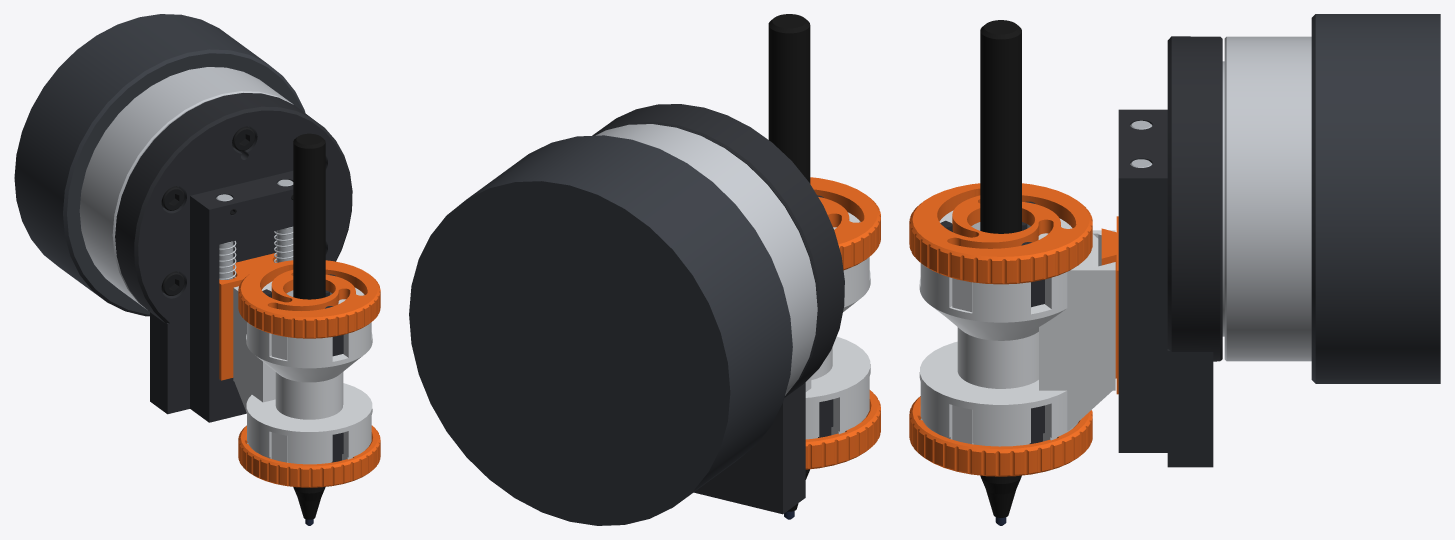
File: Quick-Change - Assembly.glb
3 renders of one model, left to right at view 1: azimuth 30°, elevation 25°; view 2: azimuth 150°, elevation 25°; view 3: azimuth 270°, elevation 25°, orthographic. The views are drawn at different scales.
Parts seen in each view (by area): view 1: Base, UTRA 6-1000 J6 housing (ref), Cartridge body, UTRA 6-1000 tool flange (ref), Twist ring (upper), Gel pen 11 mm barrel, Twist ring (lower), Carriage, Rod R, Rod L, Gel pen 11 mm front, M5x12 SHCS 6 (+2 smaller); view 2: UTRA 6-1000 J6 housing (ref), Base, UTRA 6-1000 tool flange (ref), Gel pen 11 mm barrel, Cartridge body, Twist ring (upper), Twist ring (lower); view 3: UTRA 6-1000 J6 housing (ref), Base, Cartridge body, UTRA 6-1000 tool flange (ref), Twist ring (upper), Gel pen 11 mm barrel, Twist ring (lower), Carriage, Gel pen 11 mm front.
Part boxes in pixels (x1,y1,x2,y2): Base: (115,93,352,422); UTRA 6-1000 J6 housing (ref): (14,14,305,316); Cartridge body: (233,281,372,464); UTRA 6-1000 tool flange (ref): (79,67,293,309); Twist ring (upper): (238,260,380,338); Gel pen 11 mm barrel: (293,133,325,493); Twist ring (lower): (238,425,380,487); Carriage: (219,253,276,380); Rod R: (276,179,293,262); Rod L: (216,194,233,279); Gel pen 11 mm front: (294,489,324,519); M5x12 SHCS 6: (161,186,184,210); UTRA 6-1000 J6 housing (ref): (409,135,792,525); Base: (592,104,844,514); UTRA 6-1000 tool flange (ref): (595,124,817,395); Gel pen 11 mm barrel: (768,14,810,473); Cartridge body: (805,212,870,439); Twist ring (upper): (810,177,880,270); Twist ring (lower): (805,390,880,469); UTRA 6-1000 J6 housing (ref): (1311,14,1440,383); Base: (1118,36,1222,467); Cartridge body: (919,210,1115,446); UTRA 6-1000 tool flange (ref): (1222,36,1311,361); Twist ring (upper): (909,183,1092,284); Gel pen 11 mm barrel: (980,20,1021,483); Twist ring (lower): (909,396,1092,476); Carriage: (1101,216,1118,394); Gel pen 11 mm front: (981,478,1020,517).
Bounding box in the file's own units: 0.098 × 0.145 × 0.1402.
